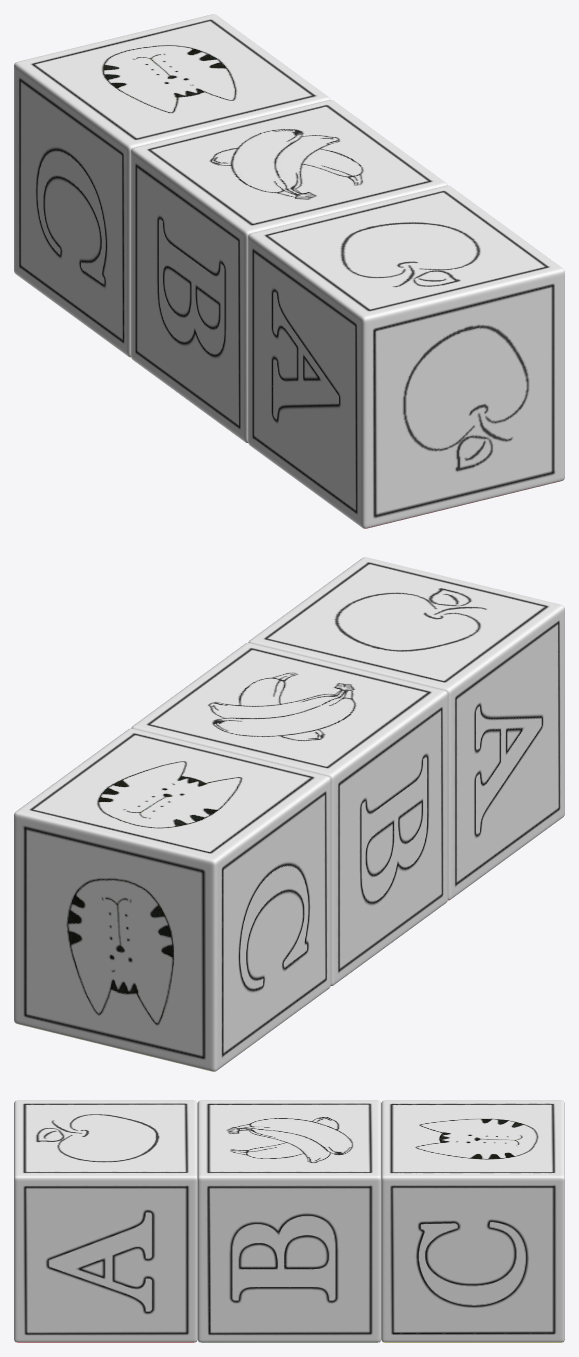
The model's file is 10576_Alphabet_Blocks_v2_Iterations-2.obj.
The picture shows the model from 3 angles, top to bottom: view 1: azimuth 30°, elevation 25°; view 2: azimuth 150°, elevation 25°; view 3: azimuth 270°, elevation 25°; orthographic projection. The views are drawn at different scales.
Parts seen in each view (by area): view 1: 10576_Alphabet_Blocks_3, 10576_Alphabet_Blocks_1, 10576_Alphabet_Blocks_2; view 2: 10576_Alphabet_Blocks_1, 10576_Alphabet_Blocks_3, 10576_Alphabet_Blocks_2; view 3: 10576_Alphabet_Blocks_2, 10576_Alphabet_Blocks_3, 10576_Alphabet_Blocks_1.
Part boxes in pixels (x1,y1,x2,y2): 10576_Alphabet_Blocks_3: (248,185,564,528); 10576_Alphabet_Blocks_1: (14,14,330,357); 10576_Alphabet_Blocks_2: (131,100,447,442); 10576_Alphabet_Blocks_1: (14,728,330,1071); 10576_Alphabet_Blocks_3: (248,557,564,900); 10576_Alphabet_Blocks_2: (131,643,447,985); 10576_Alphabet_Blocks_2: (197,1100,381,1342); 10576_Alphabet_Blocks_3: (14,1100,197,1342); 10576_Alphabet_Blocks_1: (381,1100,564,1342).
Size of the model in its own units: 4 by 4 by 12.
Materials: 1 (1 with a texture image).
